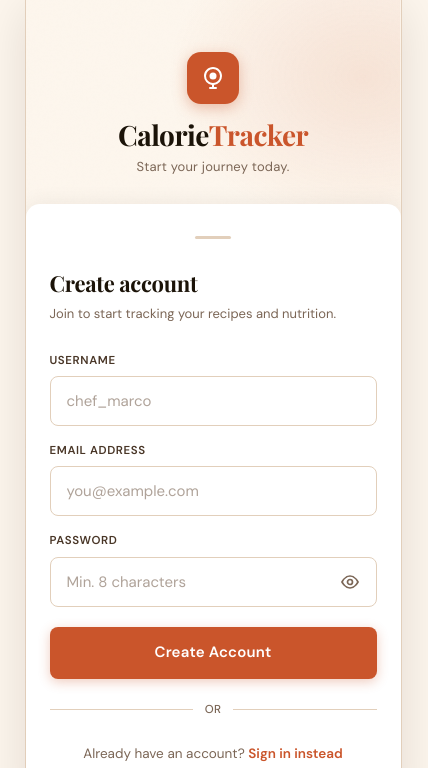
Test: RegisterPage — validation › shows errors when all fields are empty
The width and height of the screenshot is (428, 768).
Click the button "Create Account" at (213, 652), box [50, 626, 376, 678]
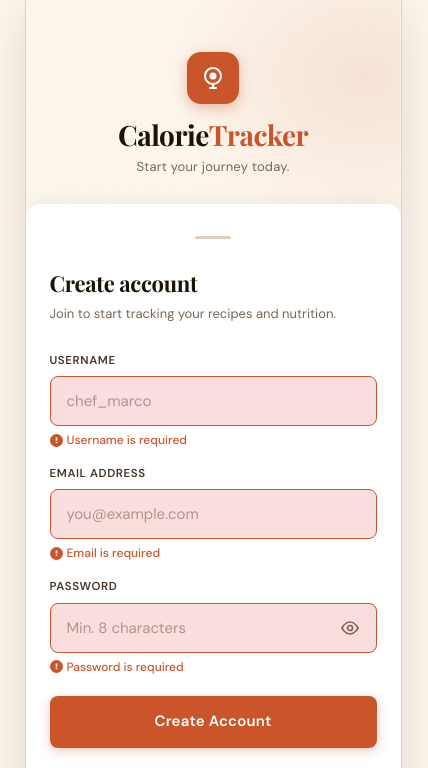
Result: the text "Username is required" is shown at [50, 432, 187, 448]
Result: the text "Email is required" is shown at [50, 545, 160, 561]
Result: the text "Password is required" is shown at [50, 658, 184, 674]
